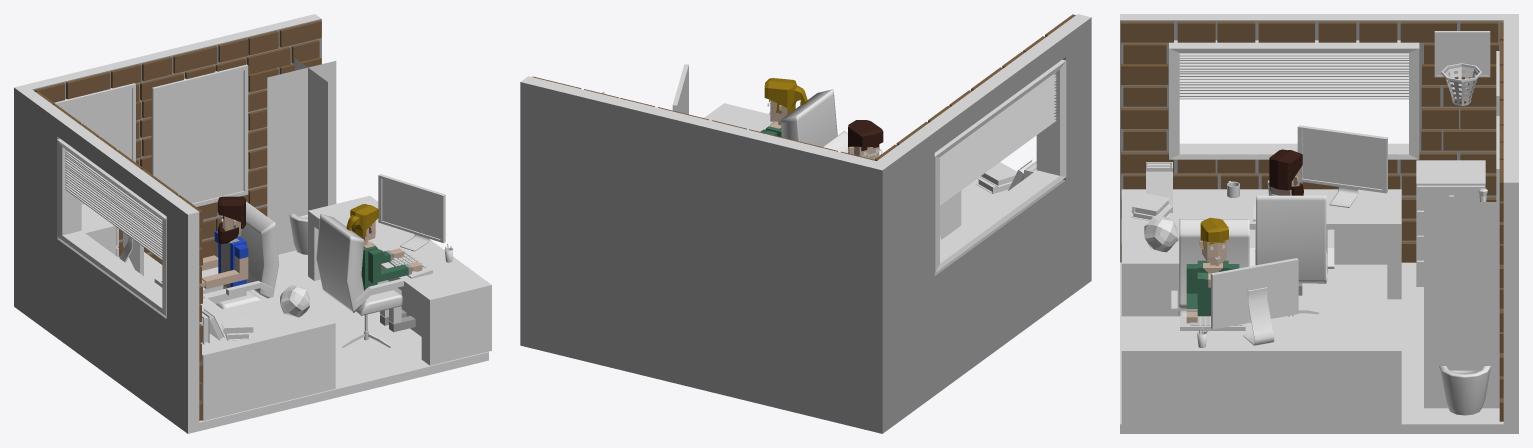
File: Asset  room2.fbx
3 views of the same model, side by side, from view 1: azimuth 30°, elevation 25°; view 2: azimuth 150°, elevation 25°; view 3: azimuth 270°, elevation 25° (orthographic). The views are drawn at different scales.
Visible parts, largest first — view 1: Cube.003, Cube.016, Plane.006, Plane.012, Plane.023, Plane.009, Cube.004, Circle.005, Plane.014, Plane.010, Cube.005, Plane.013 (+10 smaller); view 2: Cube.003, Cube.004, Plane.014, Circle.005, Cube.056, Cube.005, Plane.009, Cube.026, Cube.017, Plane.008, Plane.006, Plane.010; view 3: Plane.009, Cube.003, Cube.017, Plane.023, Plane.006, Plane.014, Cube.004, Circle.000, Plane.010, Plane.008, Cube.007, Cube.056 (+10 smaller).
Part boxes in pixels (bbox=[...]): Cube.003: bbox=[14, 14, 488, 433]; Cube.016: bbox=[34, 20, 321, 264]; Plane.006: bbox=[118, 252, 335, 420]; Plane.012: bbox=[151, 64, 248, 206]; Plane.023: bbox=[267, 58, 336, 254]; Plane.009: bbox=[308, 195, 491, 365]; Cube.004: bbox=[57, 138, 166, 315]; Circle.005: bbox=[316, 214, 403, 347]; Plane.014: bbox=[65, 149, 162, 260]; Plane.010: bbox=[378, 174, 445, 251]; Cube.005: bbox=[199, 196, 248, 303]; Plane.013: bbox=[54, 83, 135, 204]; Cube.003: bbox=[520, 14, 1091, 433]; Cube.004: bbox=[934, 59, 1066, 272]; Plane.014: bbox=[940, 72, 1056, 205]; Circle.005: bbox=[780, 89, 837, 146]; Cube.056: bbox=[760, 78, 807, 136]; Cube.005: bbox=[848, 120, 883, 159]; Plane.009: bbox=[704, 103, 774, 131]; Cube.026: bbox=[976, 159, 1036, 193]; Cube.017: bbox=[875, 14, 1075, 160]; Plane.008: bbox=[940, 191, 961, 240]; Plane.006: bbox=[961, 179, 1008, 224]; Plane.010: bbox=[672, 64, 688, 114]; Plane.009: bbox=[1121, 316, 1401, 426]; Cube.003: bbox=[1120, 14, 1518, 433]; Cube.017: bbox=[1121, 21, 1498, 262]; Plane.023: bbox=[1424, 202, 1499, 408]; Plane.006: bbox=[1121, 189, 1401, 316]; Plane.014: bbox=[1179, 53, 1408, 99]; Cube.004: bbox=[1169, 40, 1419, 159]; Circle.000: bbox=[1249, 195, 1334, 316]; Plane.010: bbox=[1211, 258, 1298, 345]; Plane.008: bbox=[1297, 125, 1387, 207]; Cube.007: bbox=[1416, 160, 1485, 286]; Cube.056: bbox=[1186, 217, 1239, 323].
Size of the model in its own units: 309 by 212 by 305.
